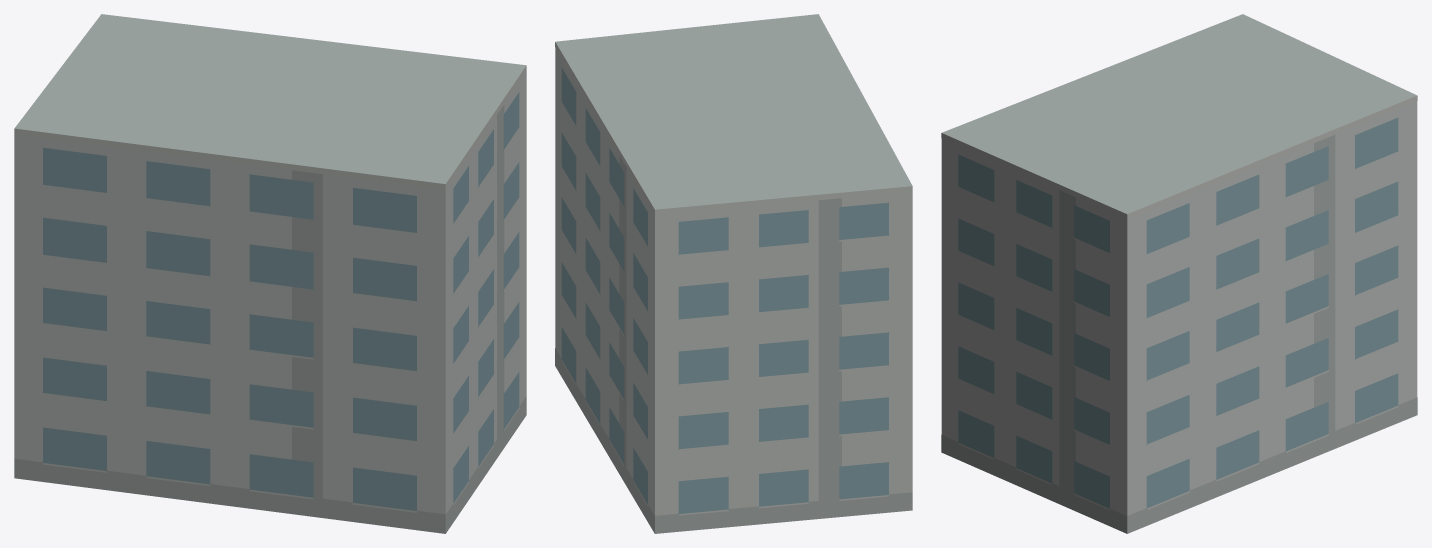
File: survey-upis-32993829.glb
The picture shows the model from 3 angles, left to right: view 1: azimuth 30°, elevation 25°; view 2: azimuth 150°, elevation 25°; view 3: azimuth 270°, elevation 25°; orthographic projection. The views are drawn at different scales.
Visible parts, largest first — view 1: survey-upis-32993829.tmp; view 2: survey-upis-32993829.tmp; view 3: survey-upis-32993829.tmp.
Part boxes in pixels (left/top/right/bottom): survey-upis-32993829.tmp: left=14, top=14, right=526, bottom=533; survey-upis-32993829.tmp: left=555, top=14, right=912, bottom=533; survey-upis-32993829.tmp: left=941, top=14, right=1417, bottom=533.
Bounding box in the file's own units: 19.22 × 14.3 × 19.3.
